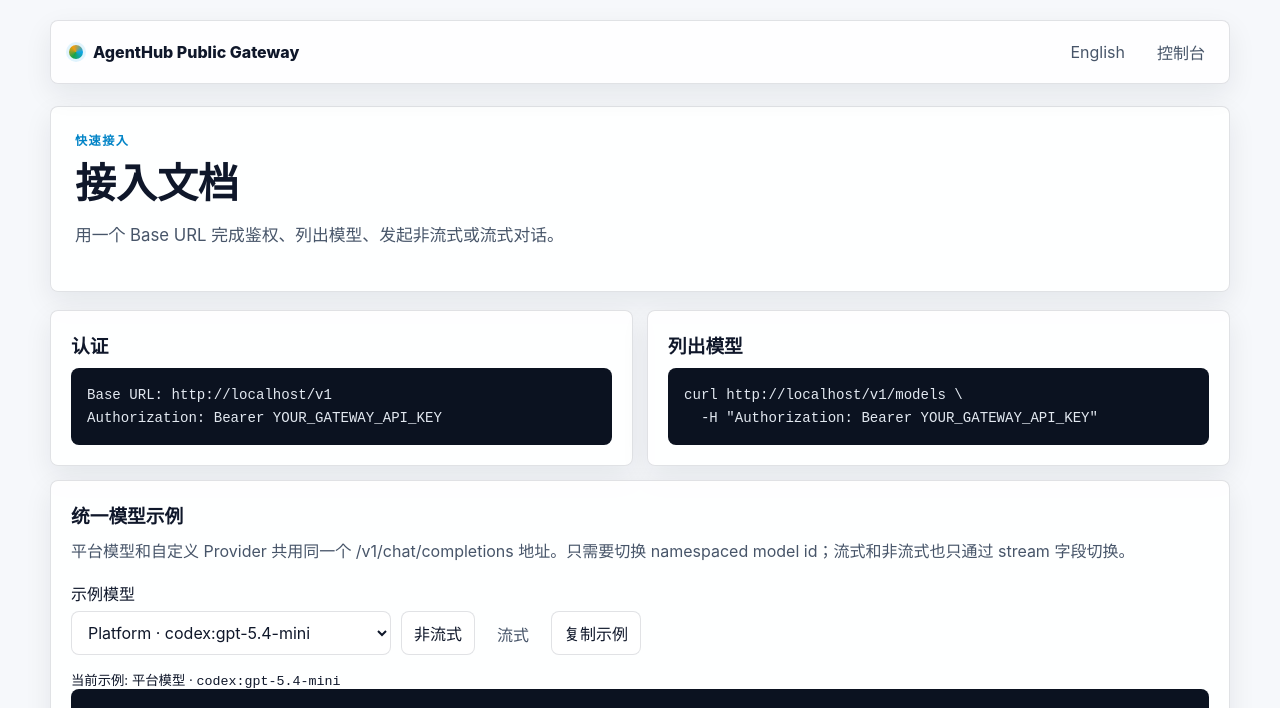
it: DocsPage › updates examples when the selected live models change
The image size is (1280, 708).
Select "Custom · minimax-cn:MiniMax-M2.7" in the dropdown labelled "示例模型" at coordinates (231, 633), box [71,611,391,655]
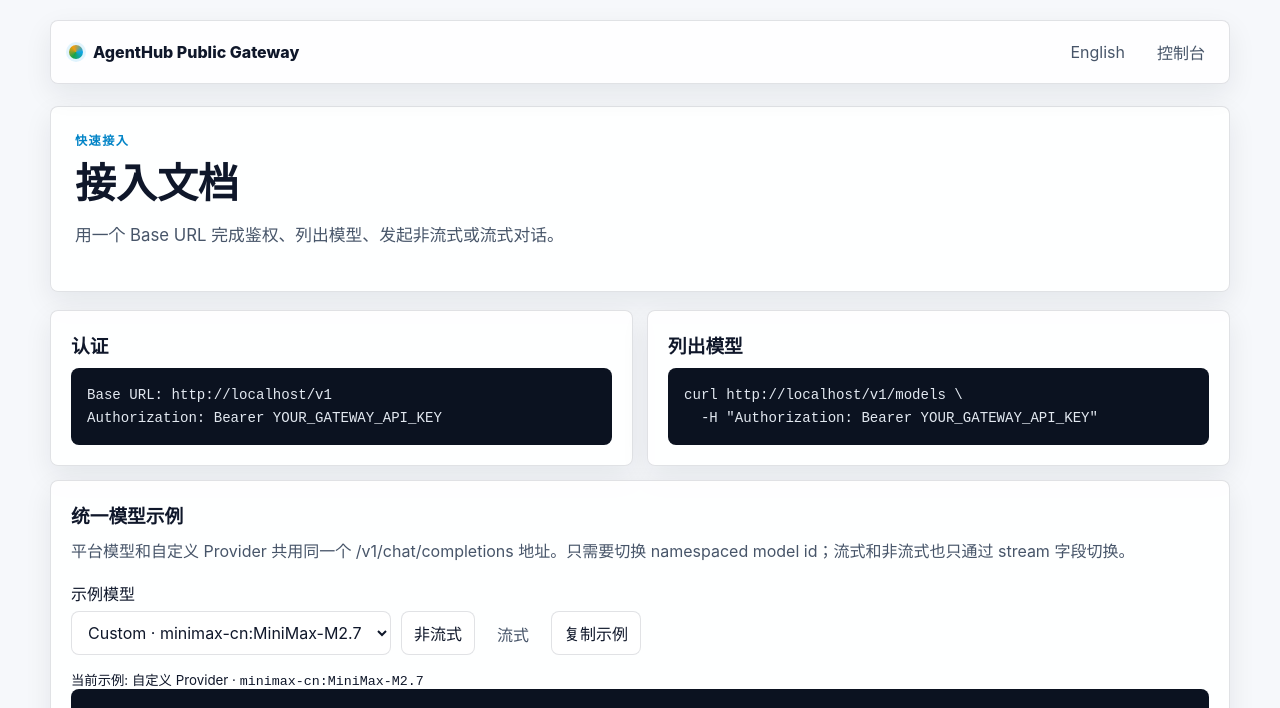
Click the button "流式" at coordinates (513, 634), box [485,613,541,655]
(page scrolled)
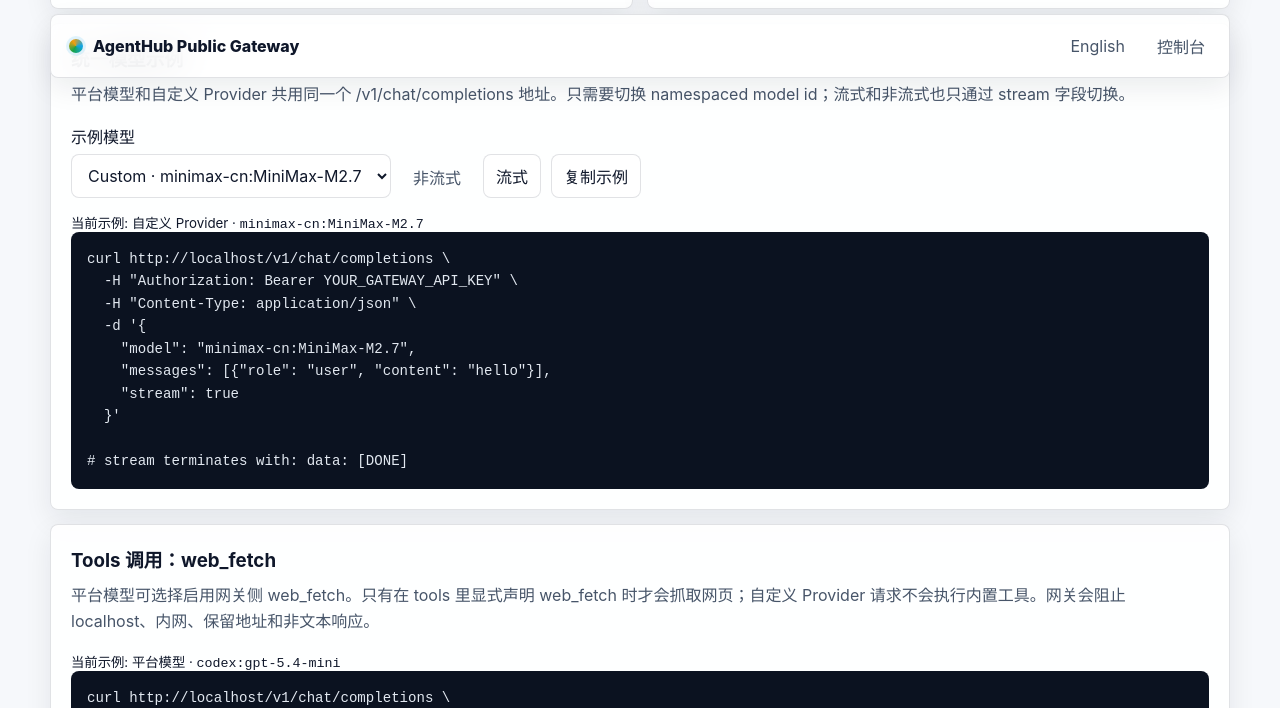
Now the text "data: [DONE]" is shown, box [87,251,552,469]
